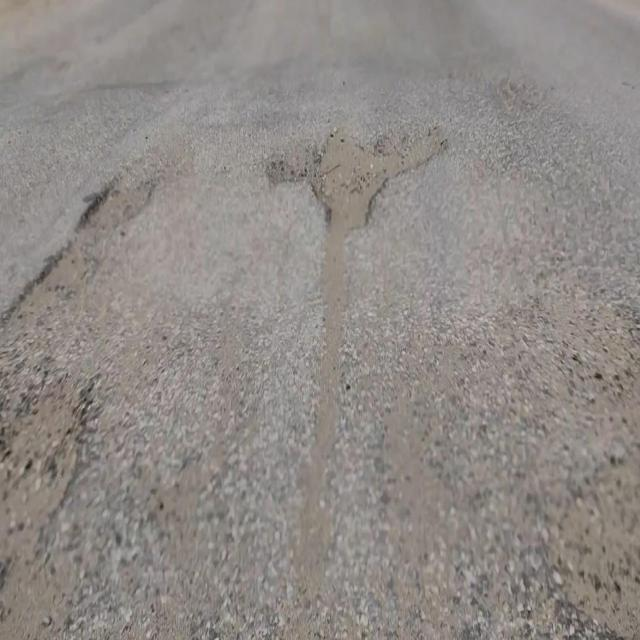Potholes: (554, 429, 640, 640), (0, 377, 93, 564), (302, 121, 389, 232), (77, 163, 152, 232), (372, 124, 443, 178), (31, 244, 90, 297)
